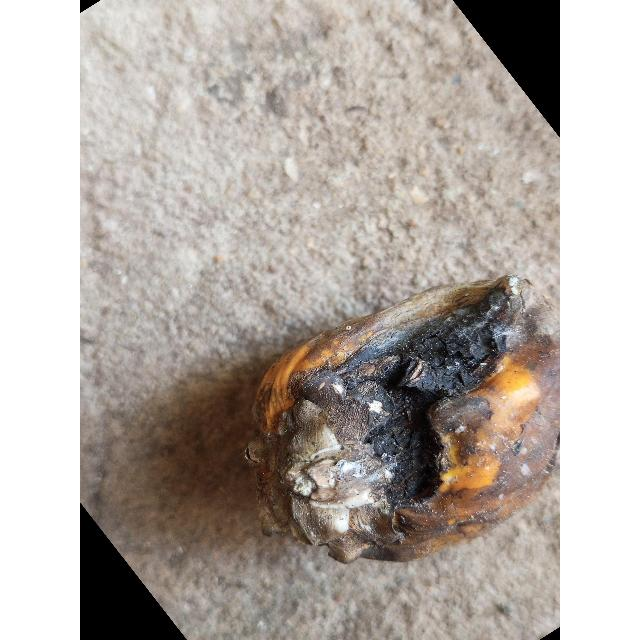damaged: (245, 276, 560, 563)
